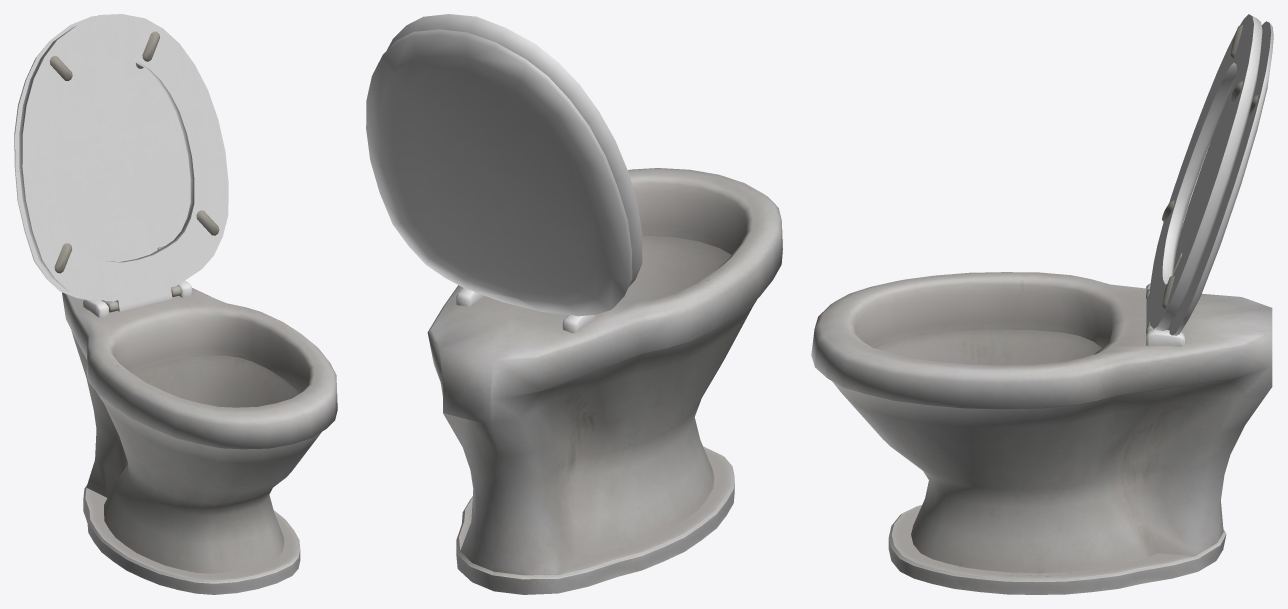
File: SM_Toilet_Bowl_02.glb
3 renders of one model, left to right at view 1: azimuth 30°, elevation 25°; view 2: azimuth 150°, elevation 25°; view 3: azimuth 270°, elevation 25°, orthographic. The views are drawn at different scales.
Parts seen in each view (by area): view 1: SM_Toilet_Bowl_02; view 2: SM_Toilet_Bowl_02; view 3: SM_Toilet_Bowl_02.
Boxes of the visible parts, left/top/right/bottom form: SM_Toilet_Bowl_02: left=14, top=14, right=337, bottom=594; SM_Toilet_Bowl_02: left=366, top=14, right=782, bottom=594; SM_Toilet_Bowl_02: left=811, top=14, right=1273, bottom=594.
Bounding box in the file's own units: 0.48 × 1.05 × 0.8388.
Materials: 1 (1 with a texture image).
